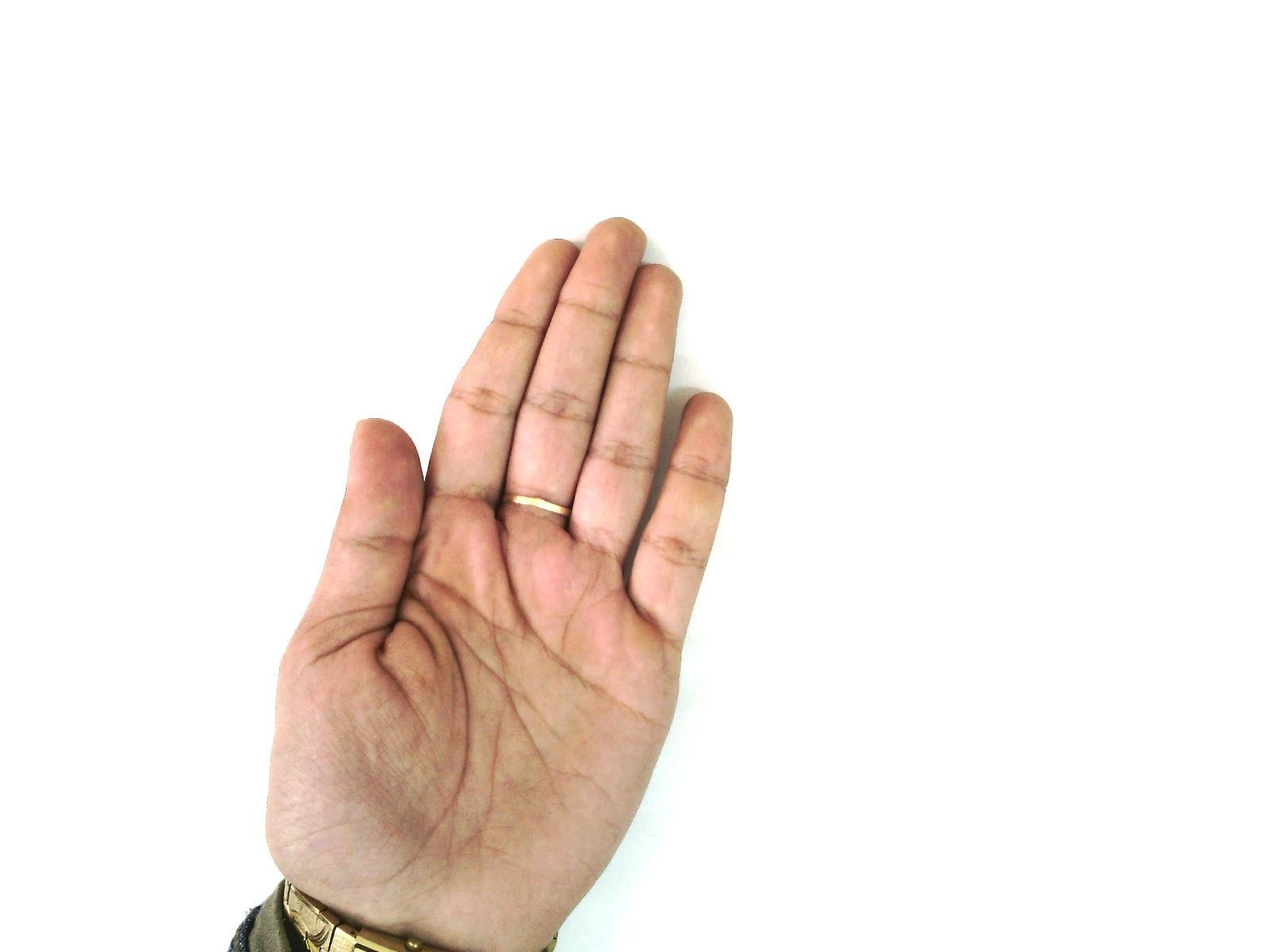open_palm: (261, 216, 737, 950)
